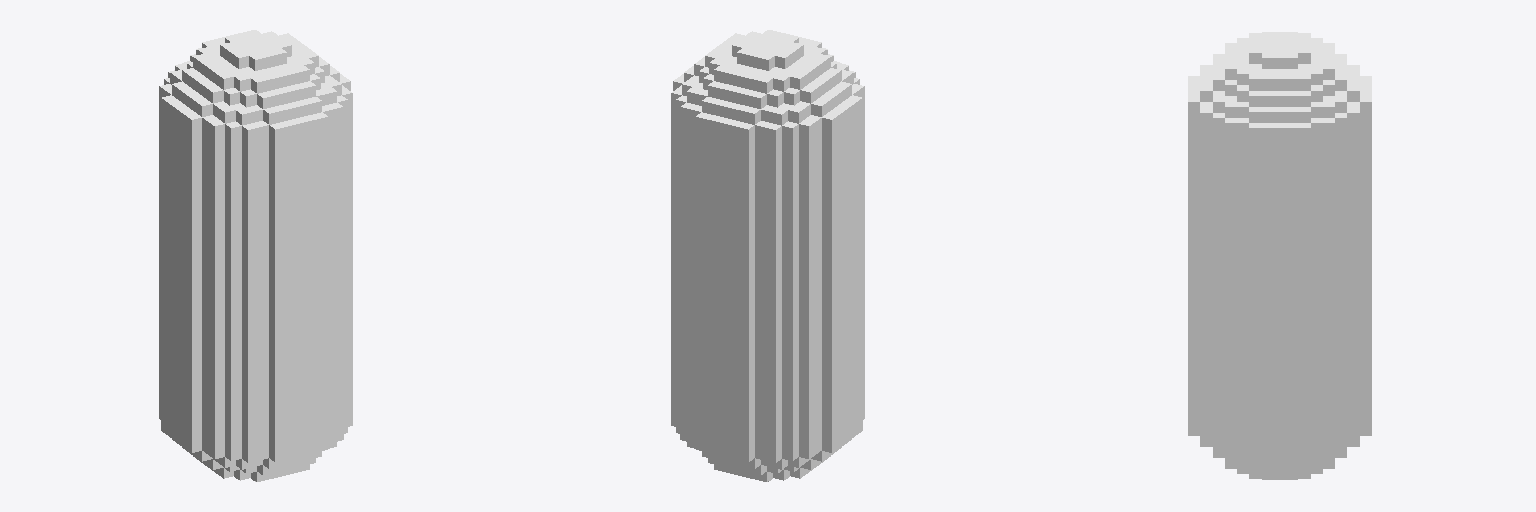
File: Sausage_npc.obj
3 renders of one model, left to right at view 1: azimuth 30°, elevation 25°; view 2: azimuth 150°, elevation 25°; view 3: azimuth 270°, elevation 25°, orthographic.
Size of the model in its own units: 15 by 38 by 15.